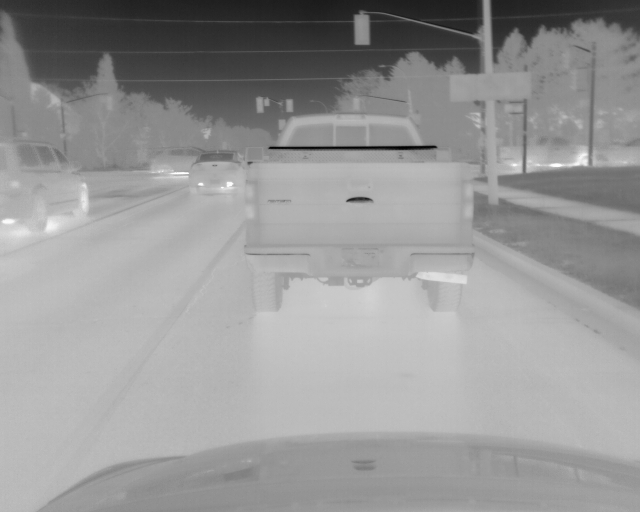car: (242, 110, 474, 317), (2, 139, 89, 231), (500, 133, 601, 170), (188, 149, 248, 196), (149, 147, 201, 174)
